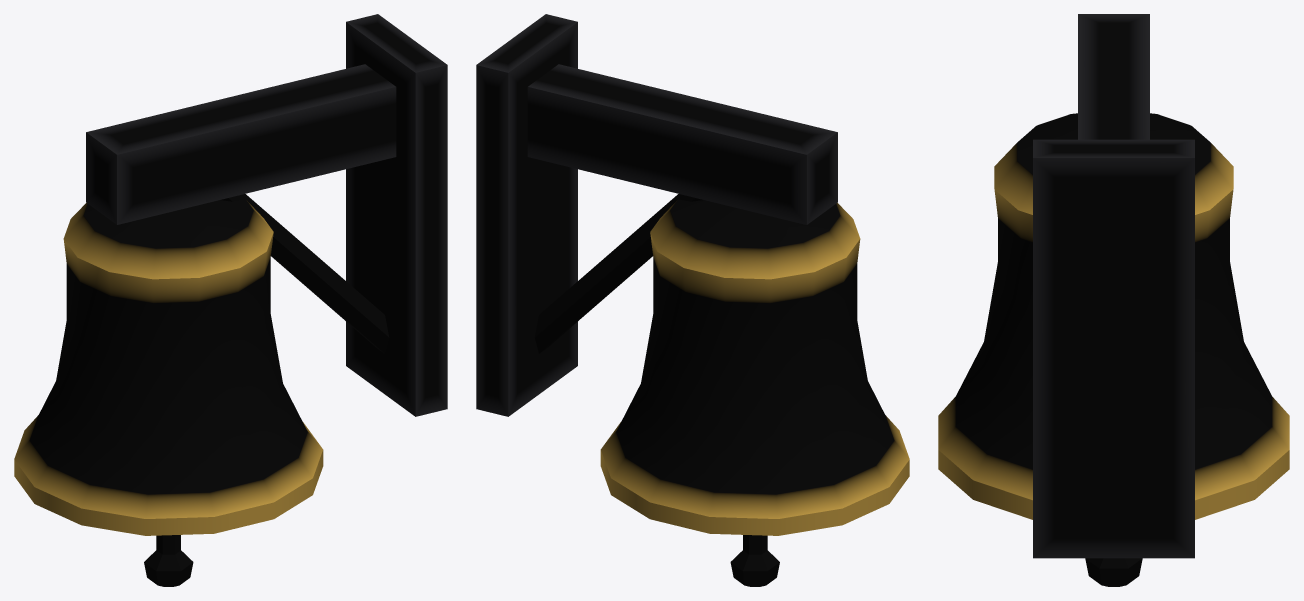
File: bell.glb
The picture shows the model from 3 angles, left to right: view 1: azimuth 30°, elevation 25°; view 2: azimuth 150°, elevation 25°; view 3: azimuth 270°, elevation 25°; orthographic projection. The views are drawn at different scales.
Visible parts, largest first — view 1: brass, dark, rope; view 2: brass, dark, rope; view 3: dark, brass, rope.
Part boxes in pixels (x1=…): brass: x1=14, y1=199, x2=323, y2=535; dark: x1=86, y1=14, x2=447, y2=416; rope: x1=144, y1=535, x2=193, y2=586; brass: x1=600, y1=199, x2=909, y2=535; dark: x1=476, y1=14, x2=837, y2=416; rope: x1=730, y1=535, x2=779, y2=586; dark: x1=1033, y1=14, x2=1194, y2=558; brass: x1=938, y1=113, x2=1289, y2=519; rope: x1=1085, y1=558, x2=1142, y2=586.
Size of the model in its own units: 0.282 by 0.345 by 0.195.
